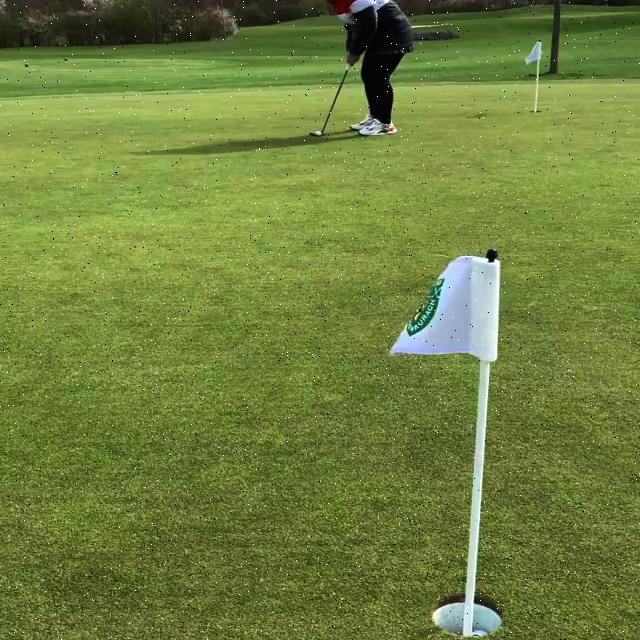golf ball: (316, 131, 322, 136)
golf club-handle: (308, 61, 354, 139)
golf club-head: (311, 131, 325, 136)
